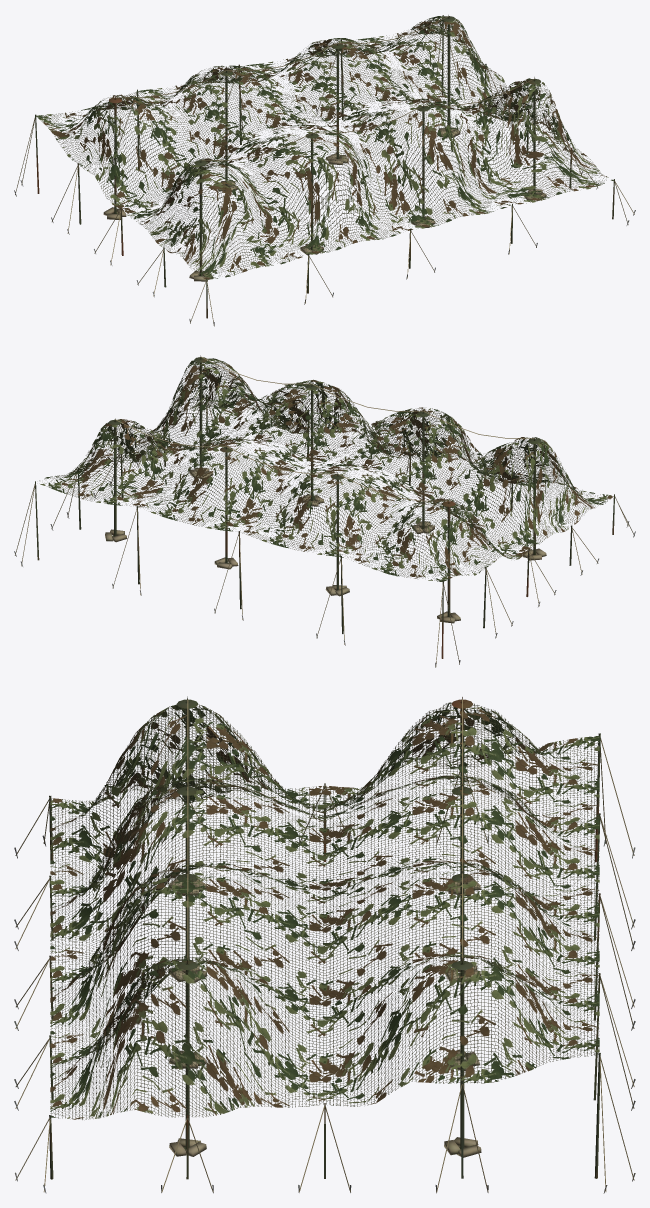
File: base_camo_net.glb
3 renders of one model, top to bottom at view 1: azimuth 30°, elevation 25°; view 2: azimuth 150°, elevation 25°; view 3: azimuth 270°, elevation 25°, orthographic. The views are drawn at different scales.
Parts seen in each view (by area): view 1: lod0; view 2: lod0; view 3: lod0.
Boxes of the visible parts, x1,y1,x2,y2 form: lod0: (14,15,635,326); lod0: (14,355,635,667); lod0: (14,696,635,1193).
Size of what is drawn, in the model's own units: 24.11 by 6.21 by 18.11.
2 materials, 2 textured.
